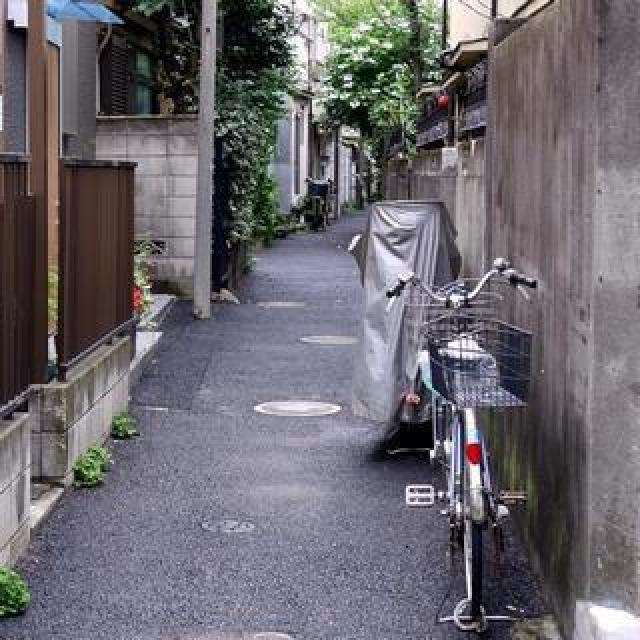Person: (377, 240, 533, 634)
